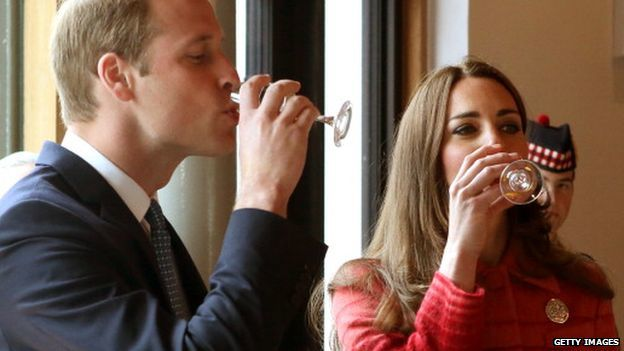drinking: (40, 1, 365, 254), (389, 43, 582, 276)
